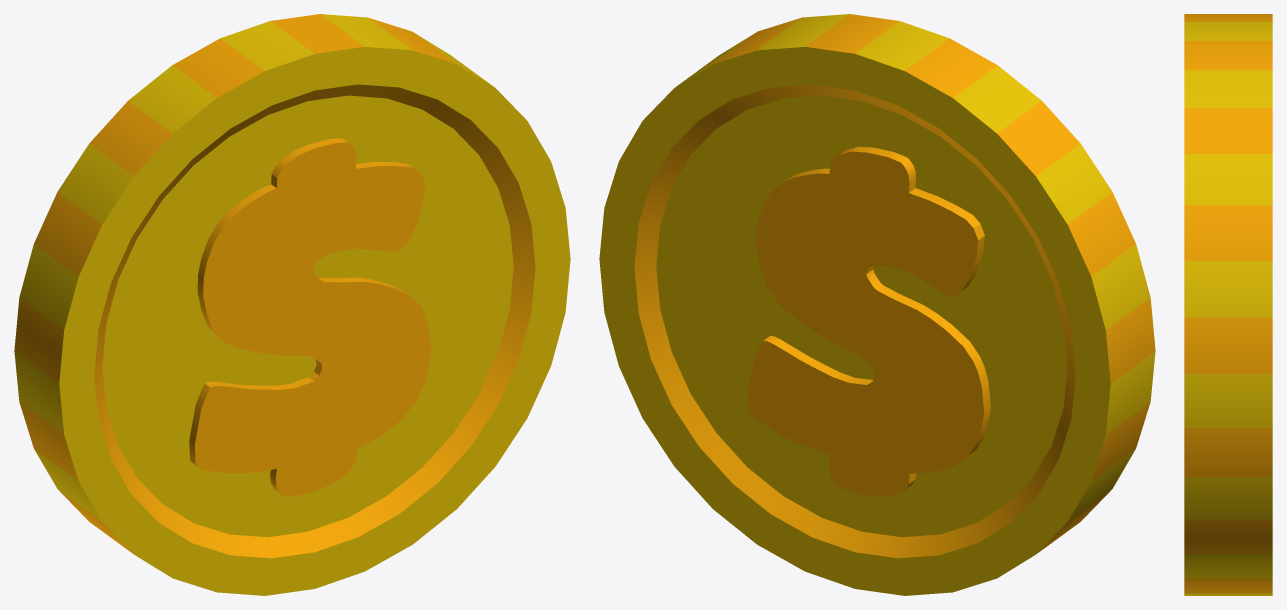
File: Coin.fbx
The picture shows the model from 3 angles, left to right: view 1: azimuth 30°, elevation 25°; view 2: azimuth 150°, elevation 25°; view 3: azimuth 270°, elevation 25°; orthographic projection.
Parts seen in each view (by area): view 1: Circle.002; view 2: Circle.002; view 3: Circle.002.
Boxes of the visible parts, left/top/right/bottom form: Circle.002: left=14, top=14, right=570, bottom=595; Circle.002: left=599, top=14, right=1155, bottom=595; Circle.002: left=1184, top=14, right=1272, bottom=595.
Bounding box in the file's own units: 431 × 431 × 65.51.
